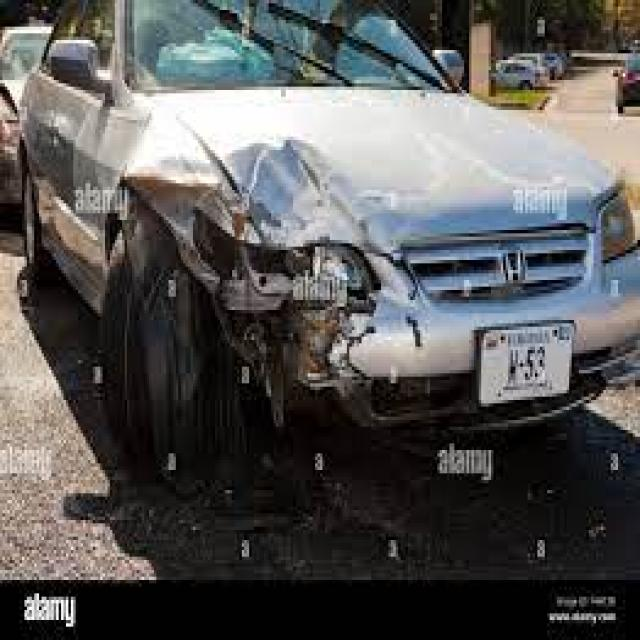moderate: (102, 118, 426, 420)
